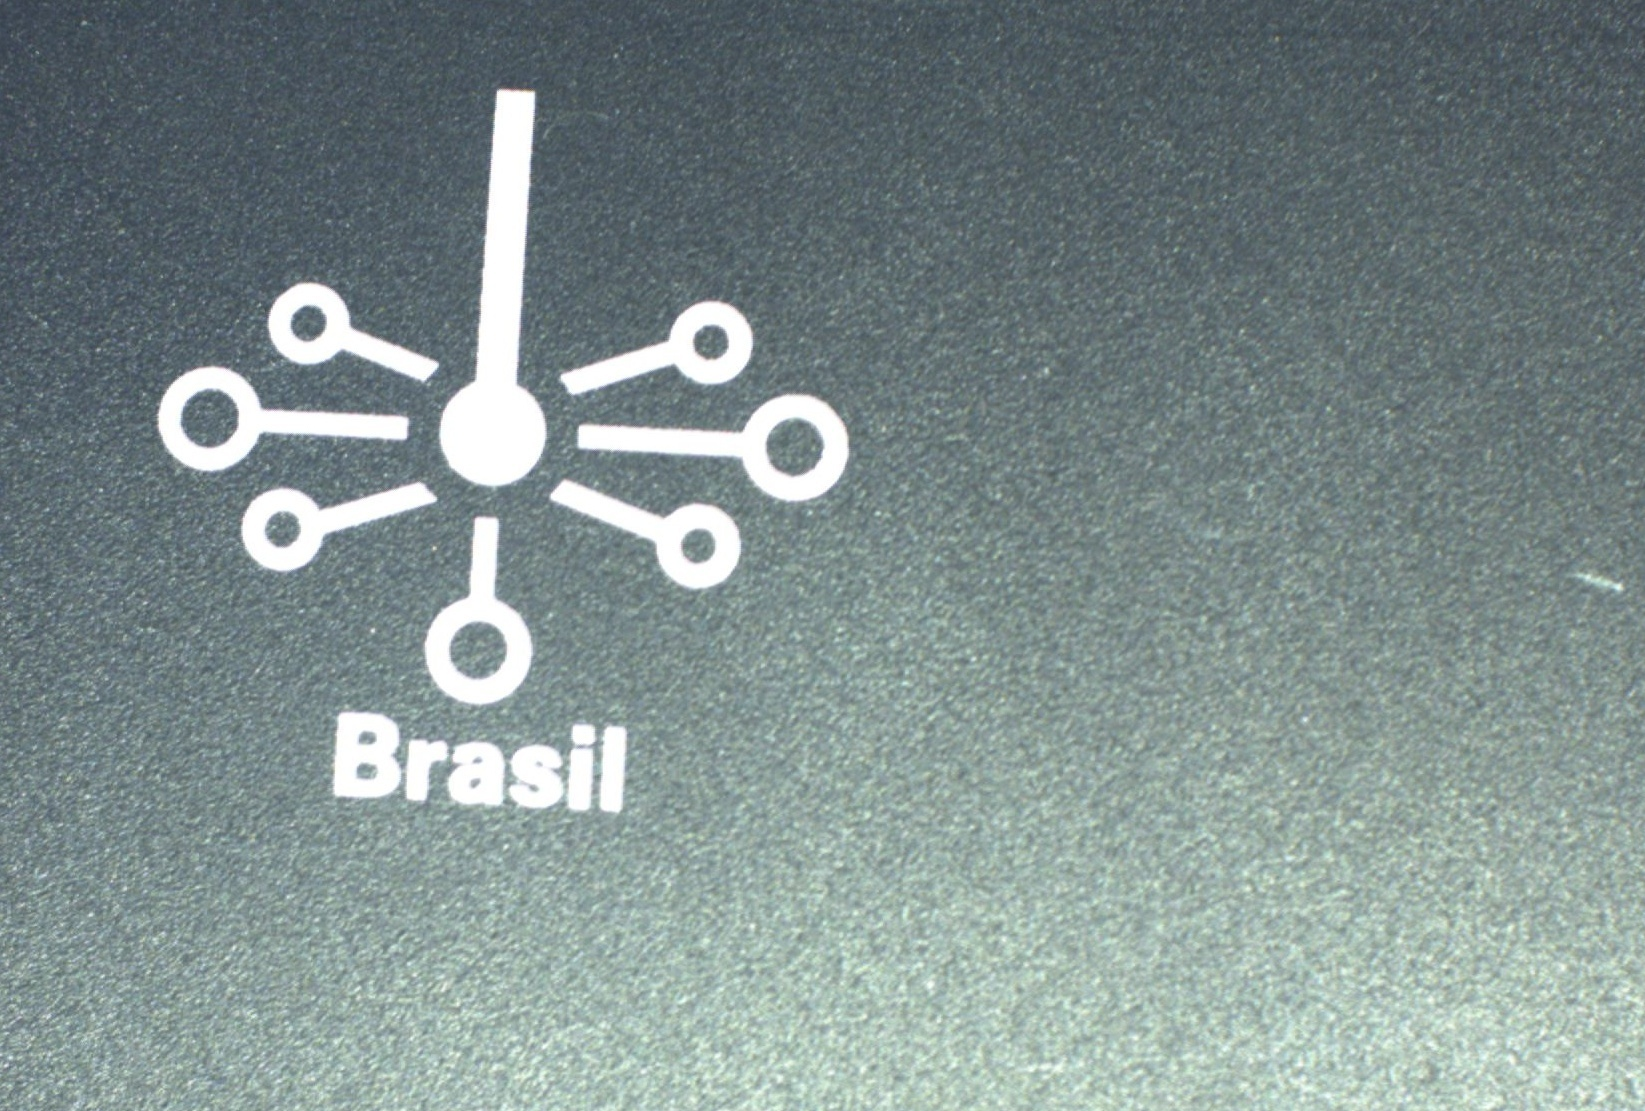BO_Brsail: (114, 81, 869, 837)
